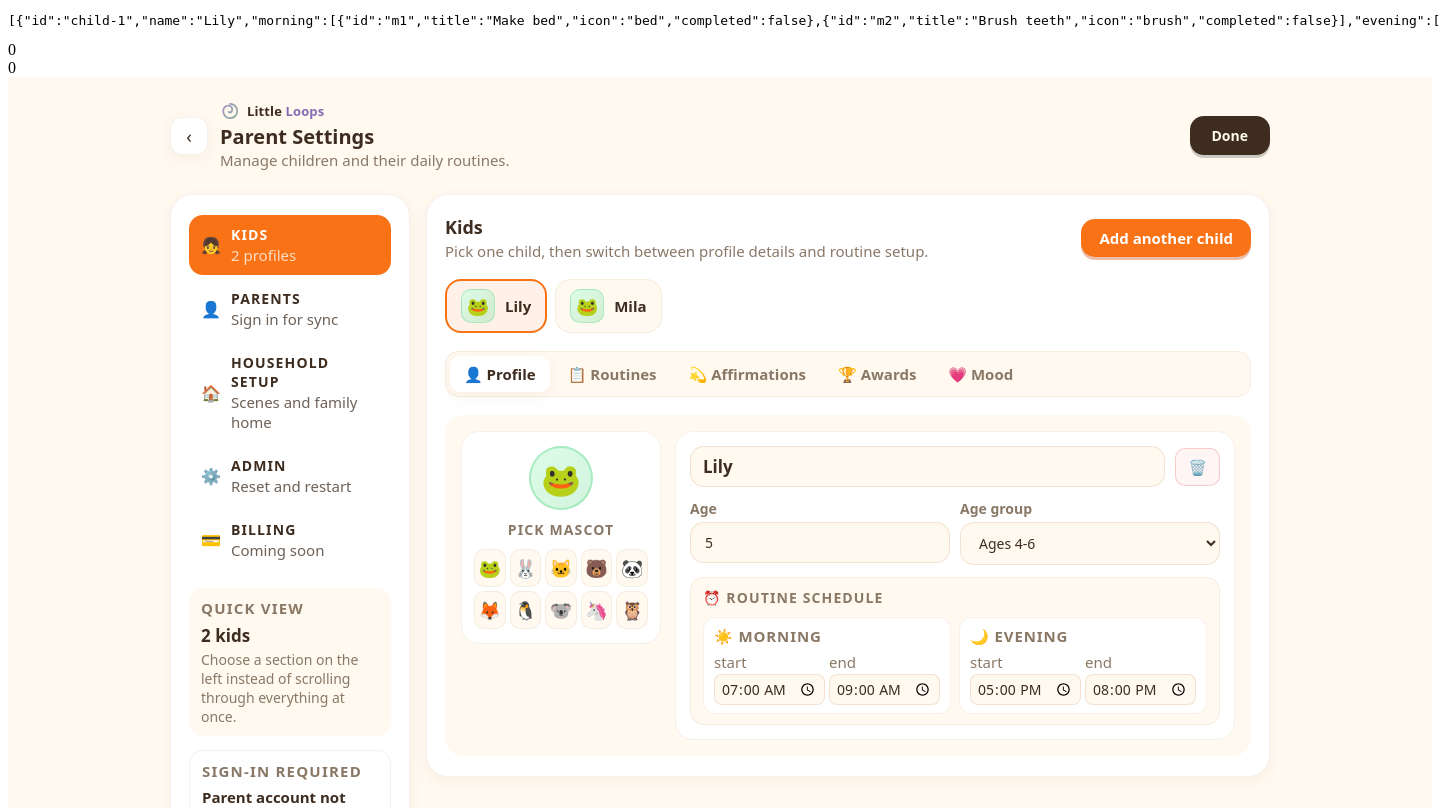
Test: ParentSettings › shows restart and reset controls for the parent
The width and height of the screenshot is (1452, 808).
What coordinates should you click on to do the following:
click the button "⚙️ Admin Reset and restart"
I would click on:
 (290, 476)
Its box is [189,446,391,506].
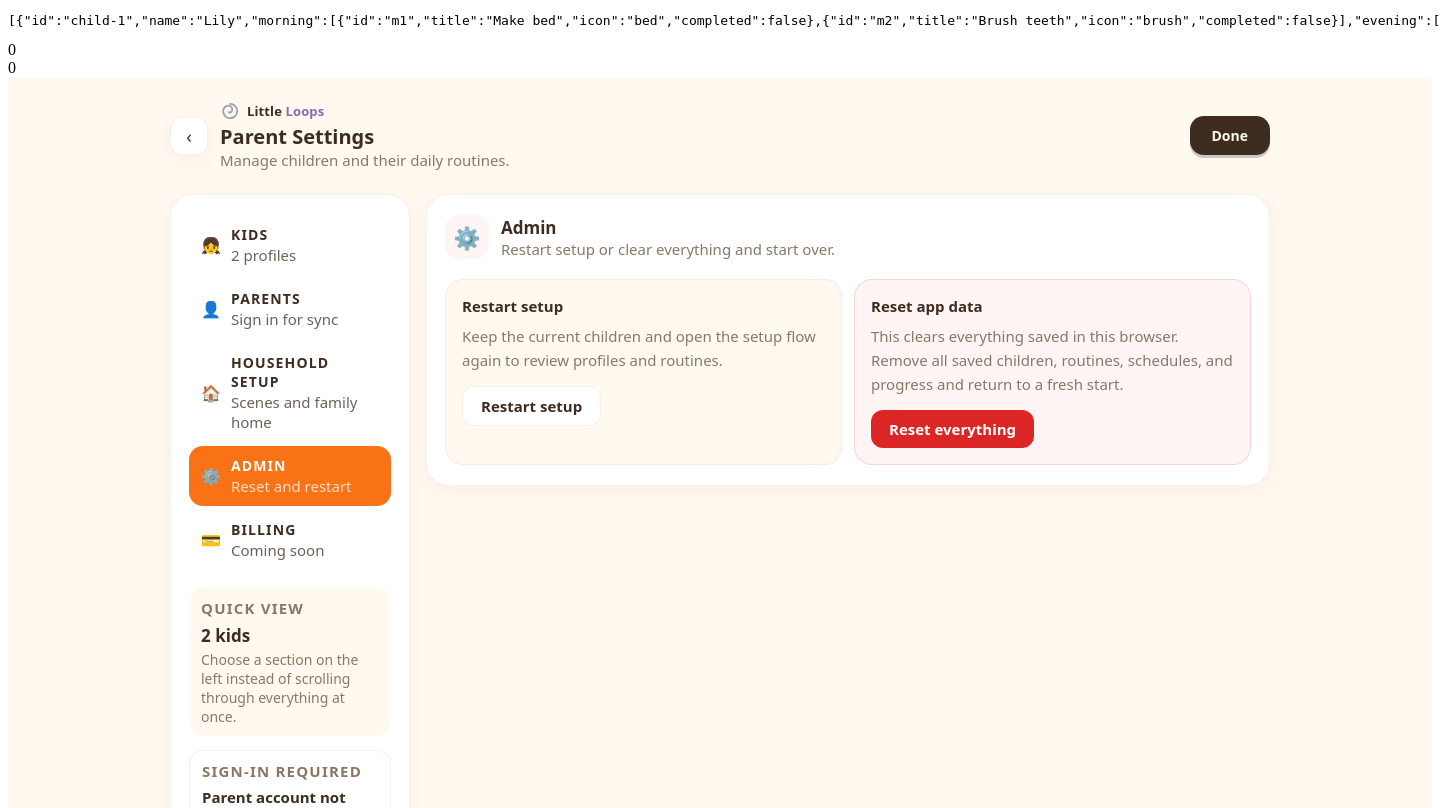
Expected: the button "Restart setup" is shown, [462,386,601,426]
Expected: the button "Reset everything" is shown, [871,410,1034,448]
